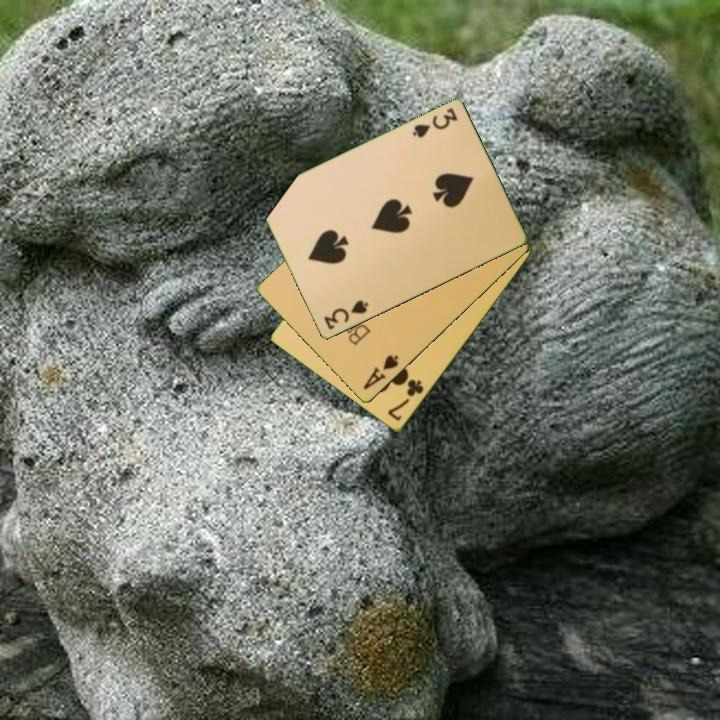3s: (409, 104, 460, 141), (320, 297, 371, 333)
7c: (384, 376, 427, 424)
As: (360, 352, 402, 393)
